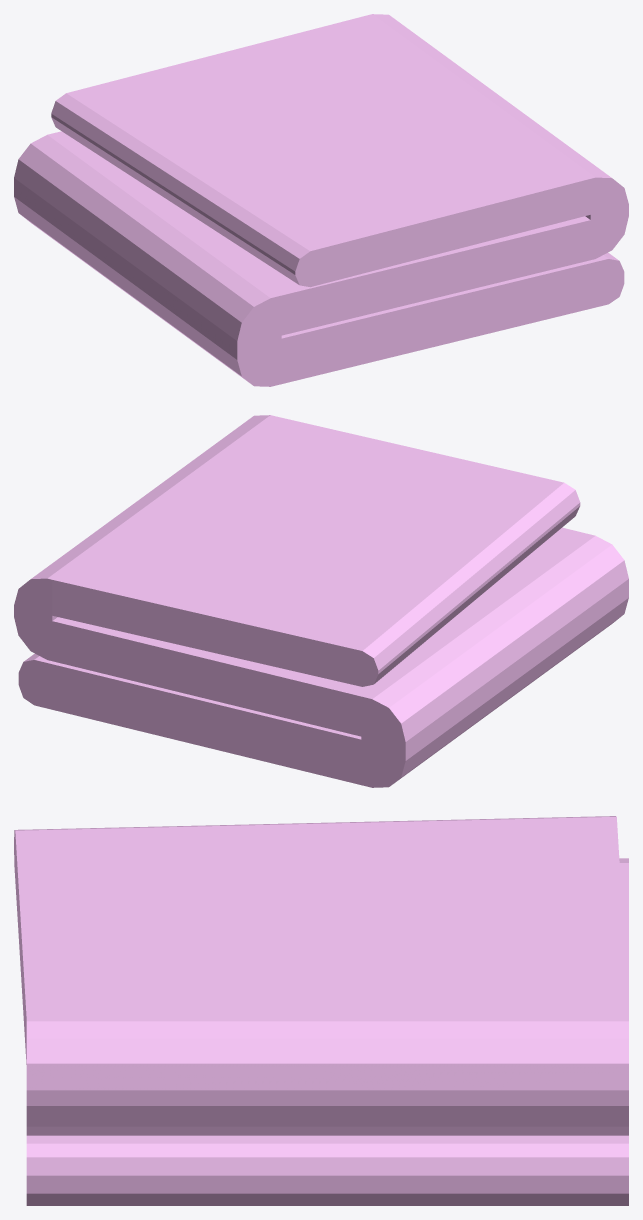
The model's file is Prop_Towel_01.fbx.
The picture shows the model from 3 angles, top to bottom: view 1: azimuth 30°, elevation 25°; view 2: azimuth 150°, elevation 25°; view 3: azimuth 270°, elevation 25°; orthographic projection. The views are drawn at different scales.
Parts seen in each view (by area): view 1: Prop_Towel_01; view 2: Prop_Towel_01; view 3: Prop_Towel_01.
Boxes of the visible parts, bbox=[...] form: Prop_Towel_01: bbox=[14, 14, 628, 386]; Prop_Towel_01: bbox=[14, 415, 628, 787]; Prop_Towel_01: bbox=[14, 816, 628, 1205].
Bounding box in the file's own units: 30.61 × 9.71 × 30.86.
